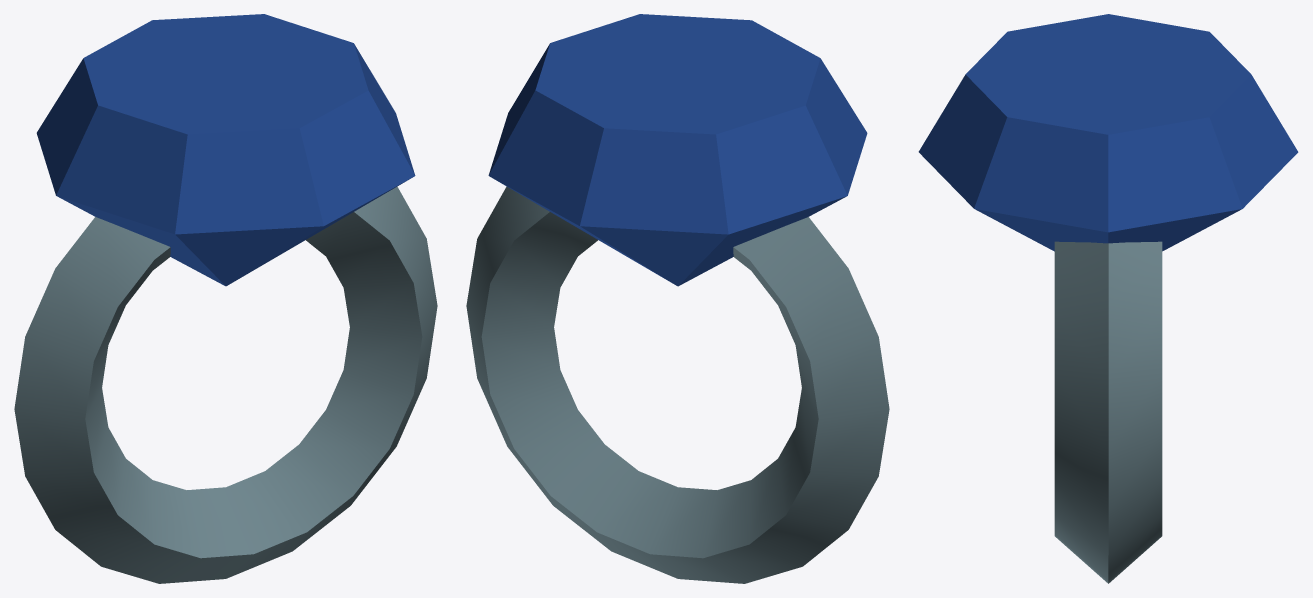
Rendered from toy_ring_01.fbx.
The picture shows the model from 3 angles, left to right: view 1: azimuth 30°, elevation 25°; view 2: azimuth 150°, elevation 25°; view 3: azimuth 270°, elevation 25°; orthographic projection. The views are drawn at different scales.
Visible parts, largest first — view 1: toy_ring_01; view 2: toy_ring_01; view 3: toy_ring_01.
Part boxes in pixels (bbox=[...]): toy_ring_01: bbox=[14, 14, 437, 583]; toy_ring_01: bbox=[466, 14, 889, 583]; toy_ring_01: bbox=[918, 14, 1298, 583].
Size of the model in its own units: 39.77 by 45.33 by 31.93.
